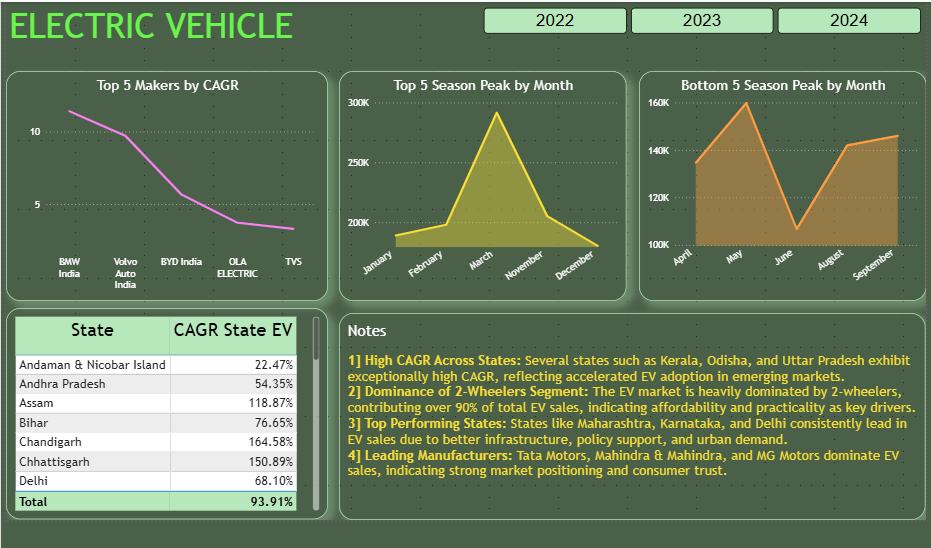

The dashboard page shown, as its layout file describes it:
{"tool":"powerbi","page":{"name":"Page 3","canvas":[1280,720],"ordinal":2},"visuals":[{"type":"ChicletSlicer1448559807354","fields":{"Category":["dim_date.fiscal_year"]},"box":[656,0,624,64],"z":0},{"type":"textbox","box":[0,0,448,80],"z":1000},{"type":"lineChart","title":"Top 5 Makers by CAGR","fields":{"Category":["electric_vehicle_sales_by_makers.maker"],"Y":["dim_date.CAGR Makers %"]},"box":[0,96,448,320],"z":2000},{"type":"tableEx","fields":{"Values":["electric_vehicle_sales_by_state.state","dim_date.CAGR State EV"]},"box":[0,426,448,294],"z":3000},{"type":"areaChart","title":"Top 5 Season Peak by Month","fields":{"Category":["dim_date.date.Variation.Date Hierarchy.Month"],"Y":["electric_vehicle_sales_by_state.EV Sold"]},"box":[464,96,400,320],"z":4000},{"type":"areaChart","title":"Bottom 5 Season Peak by Month","fields":{"Category":["dim_date.date.Variation.Date Hierarchy.Month"],"Y":["electric_vehicle_sales_by_state.EV Sold"]},"box":[880,96,400,320],"z":5000},{"type":"textbox","box":[464,432,816,288],"z":6000}]}

Visuals, with their boxes on the page's 1280x720 design canvas (x1, y1, x2, y2). These are canvas units, not pixel positions in the 931x548 screenshot, which may show the page scaled, cropped or inside an application window:
ChicletSlicer1448559807354 - dim_date.fiscal_year: x1=656 y1=0 x2=1280 y2=64
textbox: x1=0 y1=0 x2=448 y2=80
"Top 5 Makers by CAGR" lineChart: x1=0 y1=96 x2=448 y2=416
tableEx - electric_vehicle_sales_by_state.state x dim_date.CAGR State EV: x1=0 y1=426 x2=448 y2=720
"Top 5 Season Peak by Month" areaChart: x1=464 y1=96 x2=864 y2=416
"Bottom 5 Season Peak by Month" areaChart: x1=880 y1=96 x2=1280 y2=416
textbox: x1=464 y1=432 x2=1280 y2=720
